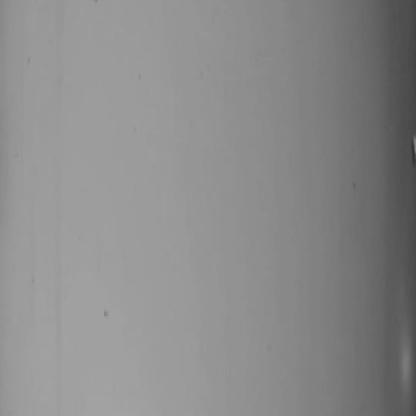kongdong: (404, 129, 416, 189)
